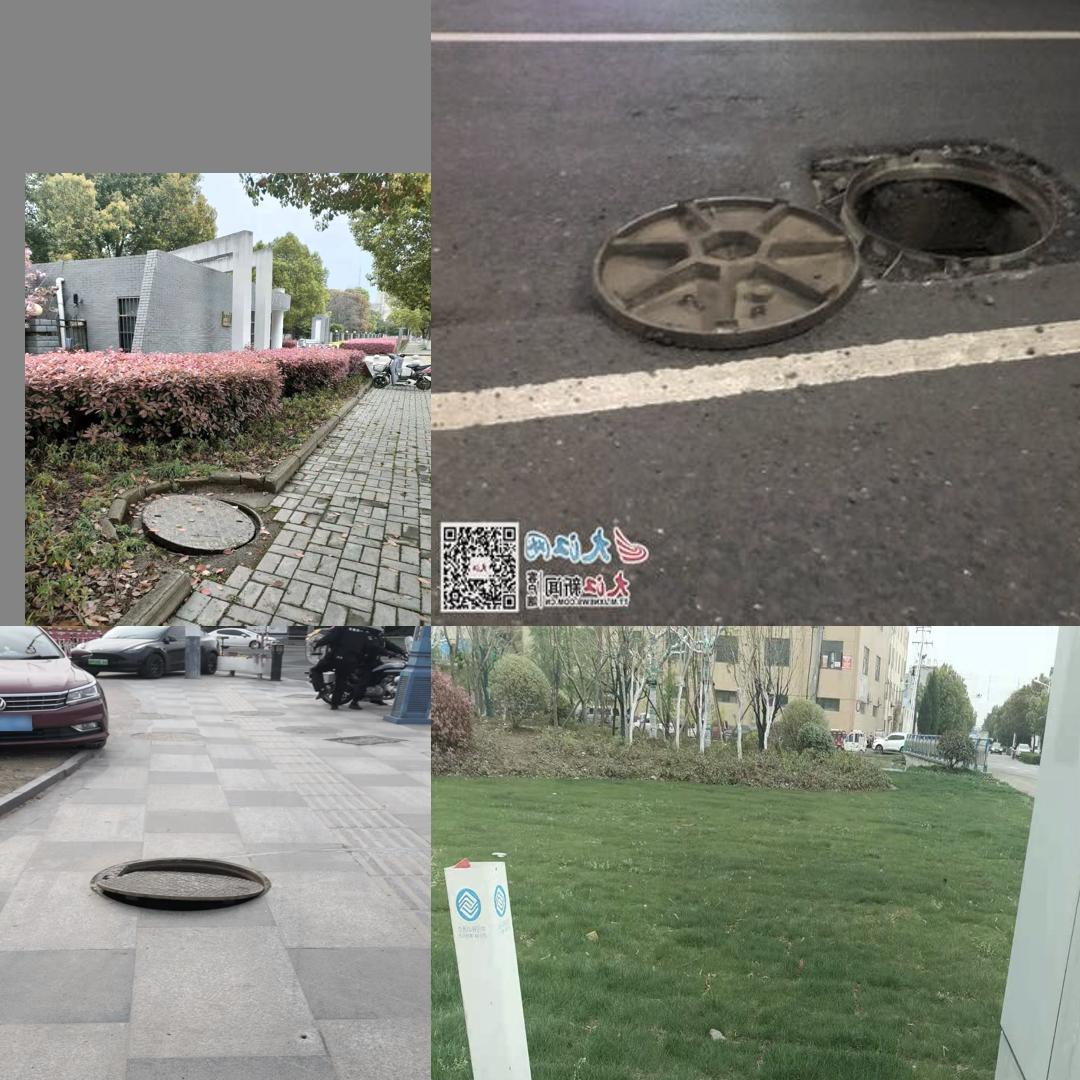uncovered: (573, 108, 1080, 384), (88, 857, 270, 915), (138, 493, 262, 558)
